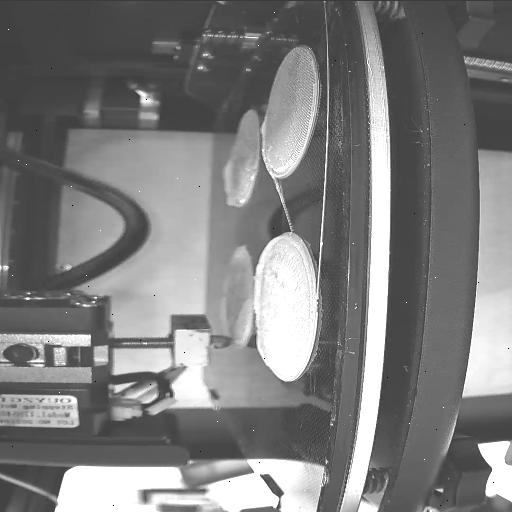over_extrusion: (251, 234, 315, 306), (218, 156, 238, 204), (235, 312, 252, 348), (254, 333, 272, 366), (255, 114, 271, 140)
